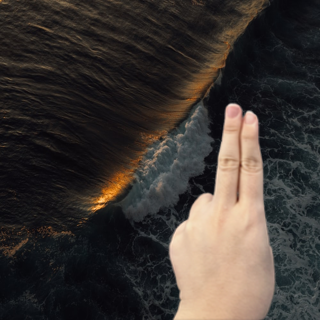DHAVE: (165, 98, 285, 320)
